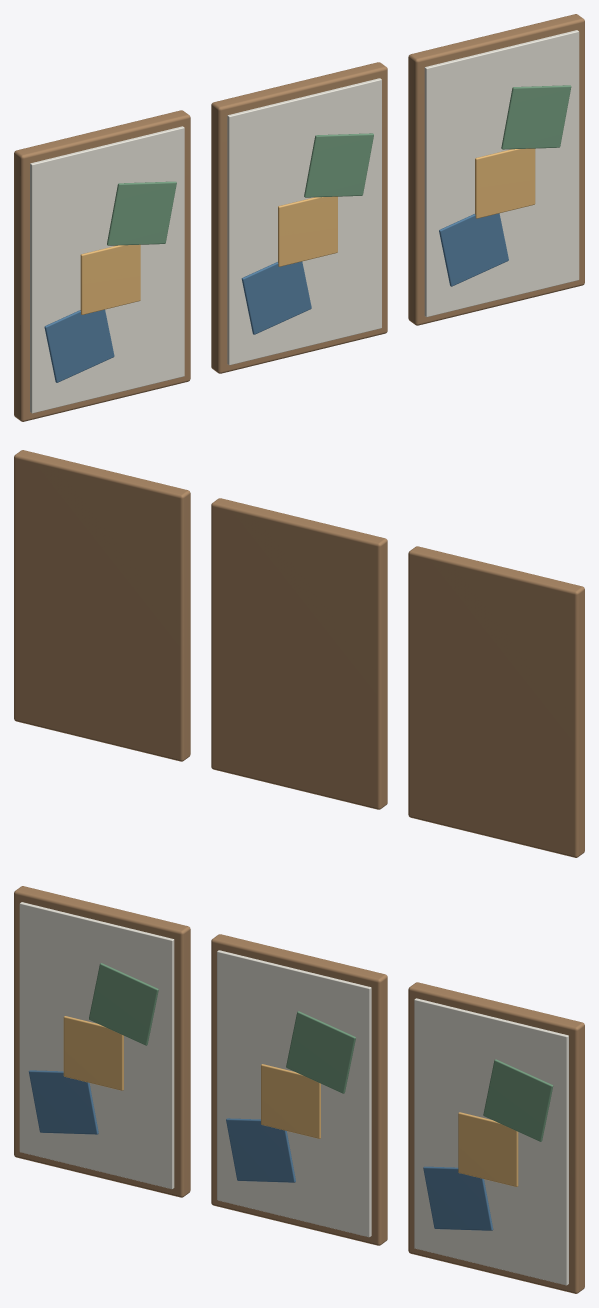
File: atelier-gallery-wall-set.glb
The picture shows the model from 3 angles, top to bottom: view 1: azimuth 30°, elevation 25°; view 2: azimuth 150°, elevation 25°; view 3: azimuth 330°, elevation 25°; orthographic projection.
Parts seen in each view (by area): view 1: ceramic.027, legs.119, artGreen.010, artGold.009, artBlue.010; view 2: legs.119; view 3: ceramic.027, legs.119, artGreen.010, artGold.009, artBlue.010.
Part boxes in pixels (bbox=[...]): ceramic.027: bbox=[30, 30, 579, 413]; legs.119: bbox=[14, 14, 584, 421]; artGreen.010: bbox=[107, 85, 571, 245]; artGold.009: bbox=[80, 148, 535, 314]; artBlue.010: bbox=[44, 213, 508, 382]; legs.119: bbox=[14, 450, 584, 857]; ceramic.027: bbox=[19, 902, 568, 1285]; legs.119: bbox=[14, 886, 584, 1293]; artGreen.010: bbox=[89, 963, 553, 1141]; artGold.009: bbox=[63, 1016, 518, 1186]; artBlue.010: bbox=[28, 1070, 493, 1230].
Size of the model in its own units: 1.66 by 0.75 by 0.0725.
